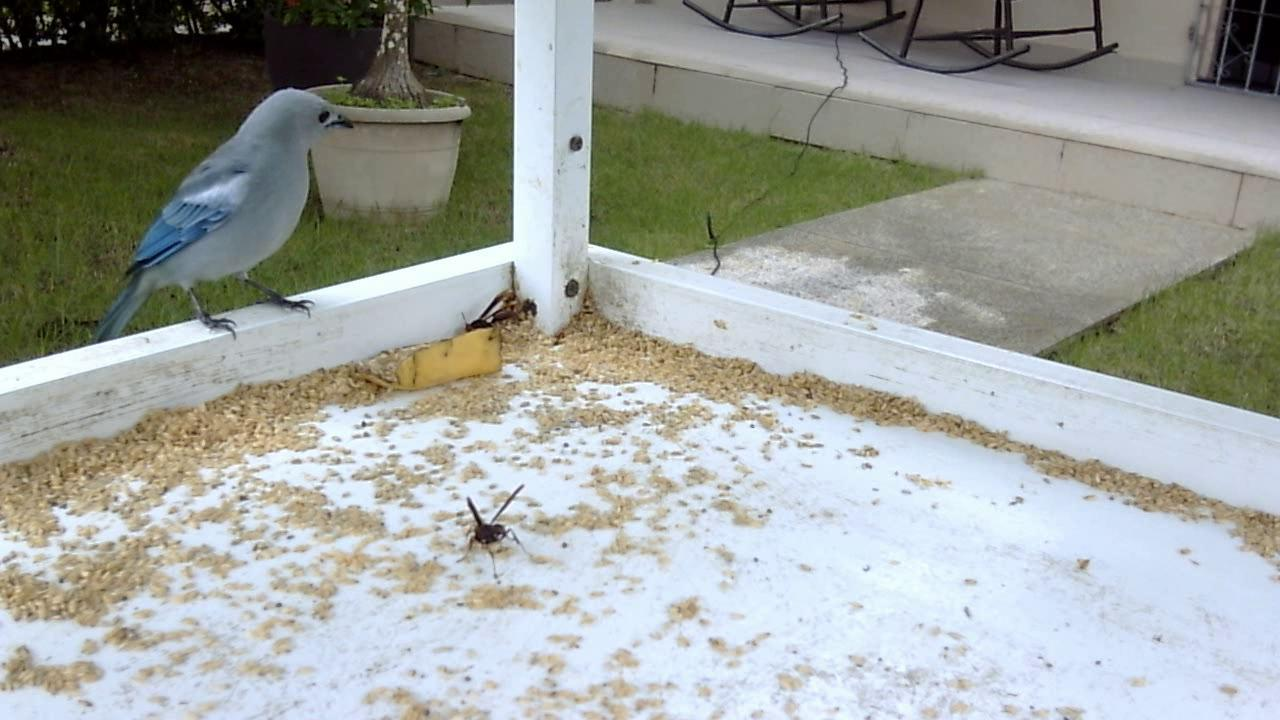sanhaco_da_amazonia: (89, 86, 353, 345)
